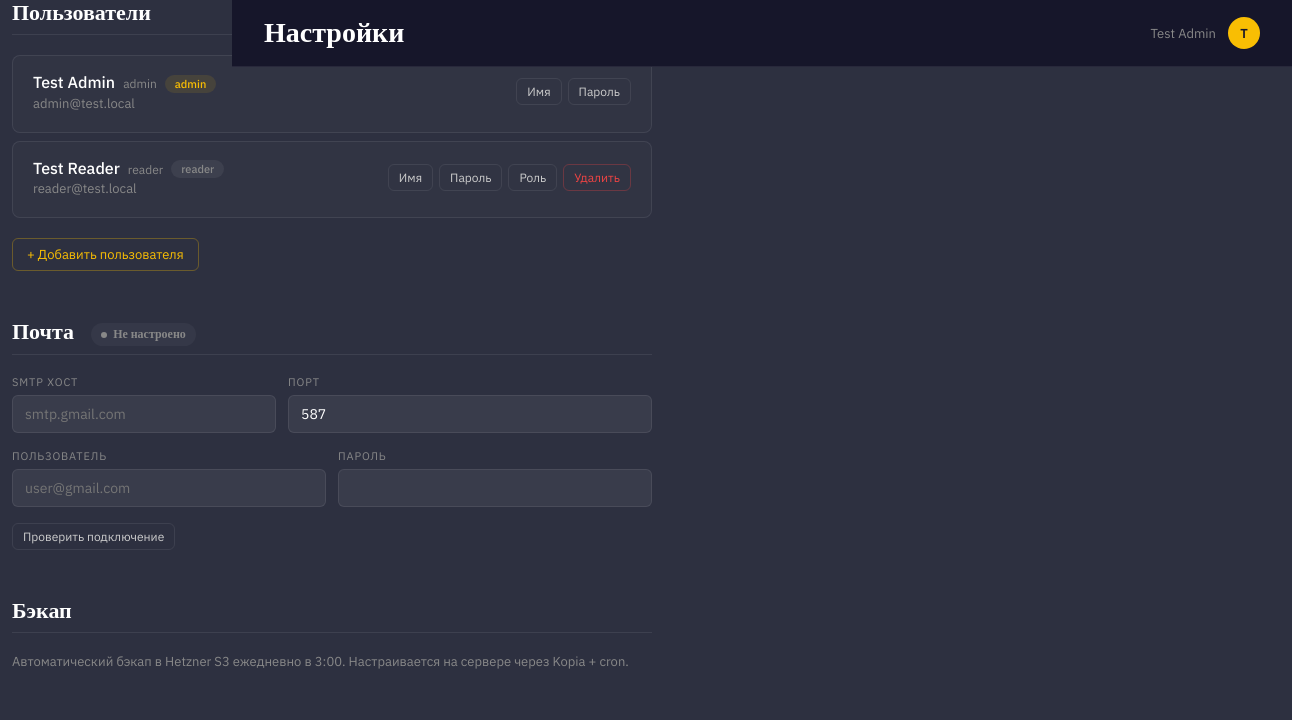
Test: AdminPage › Settings save button › is disabled until a setting changes, enabled after
Expected: the button "Проверить подключение" is shown, left=12, top=523, right=175, bottom=550
// изменение поля почты делает форму «грязной» → кнопка активируется
Type "smtp.test" into the field with placeholder "smtp.gmail.com" at point(144, 414), box left=12, top=395, right=276, bottom=433
(page scrolled)
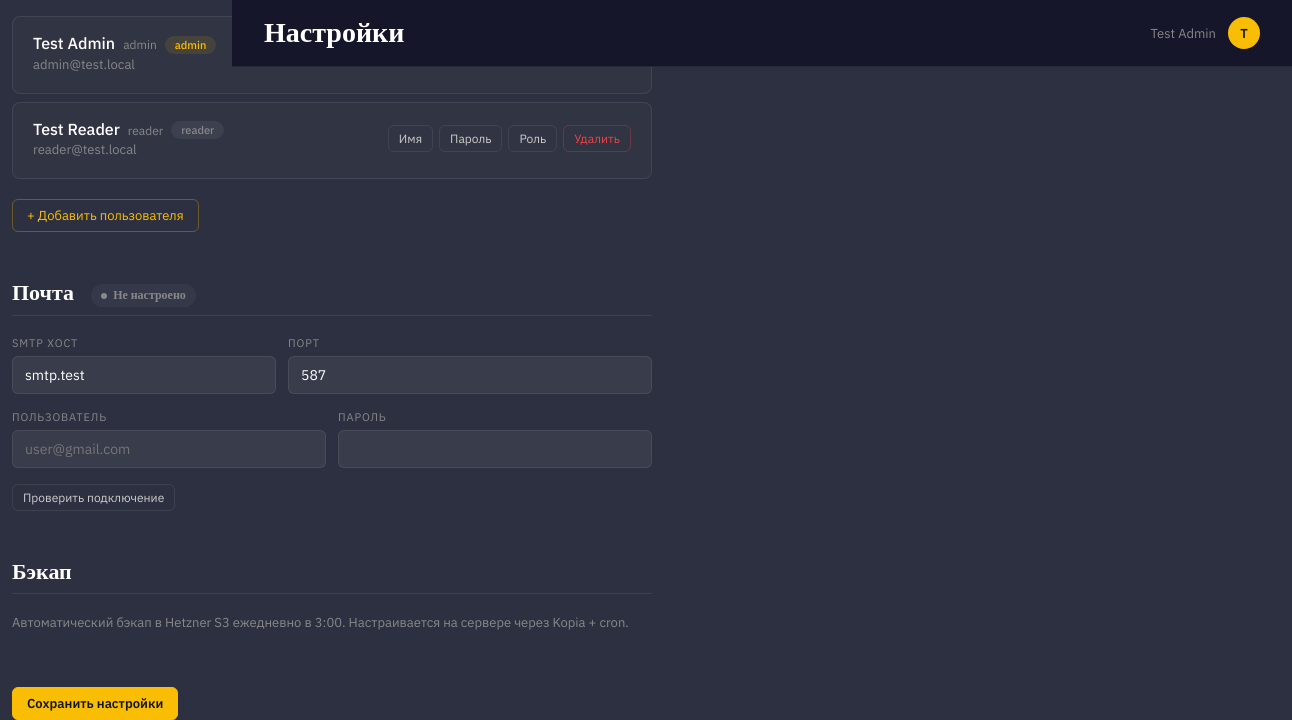
Result: the button "Сохранить настройки" is enabled at left=12, top=687, right=178, bottom=719
